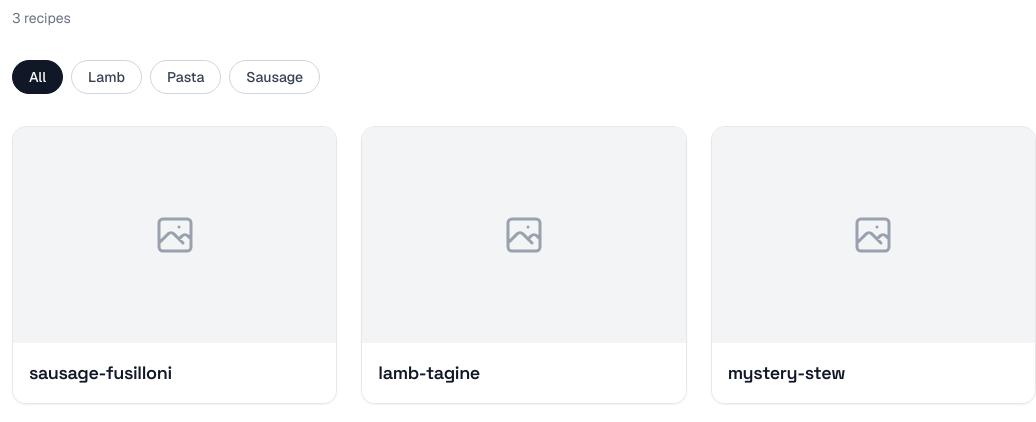
Scenario: CategoryRecipeGrid › restores the full grid via All, or by re-clicking the active pill
The image size is (1036, 422).
Click the button "lamb" at [107, 77], box [71,60,142,94]
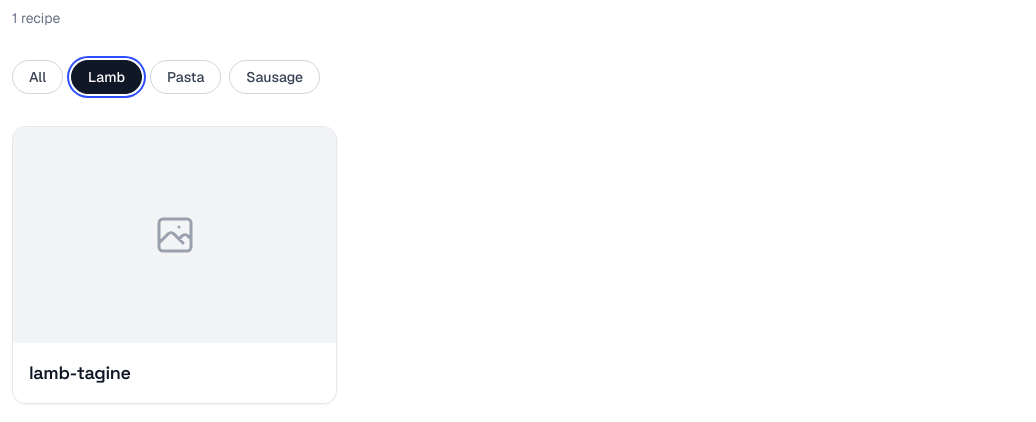
Click the button "All" at [38, 77], box [12,60,63,94]
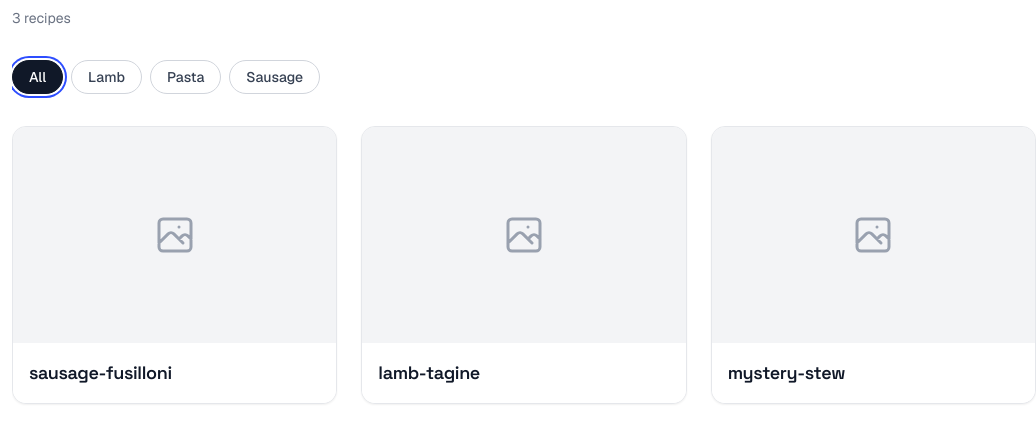
Expected: the text "3 recipes" is shown, [12,9,71,27]
Click the button "lamb" at [107, 77], box [71,60,142,94]
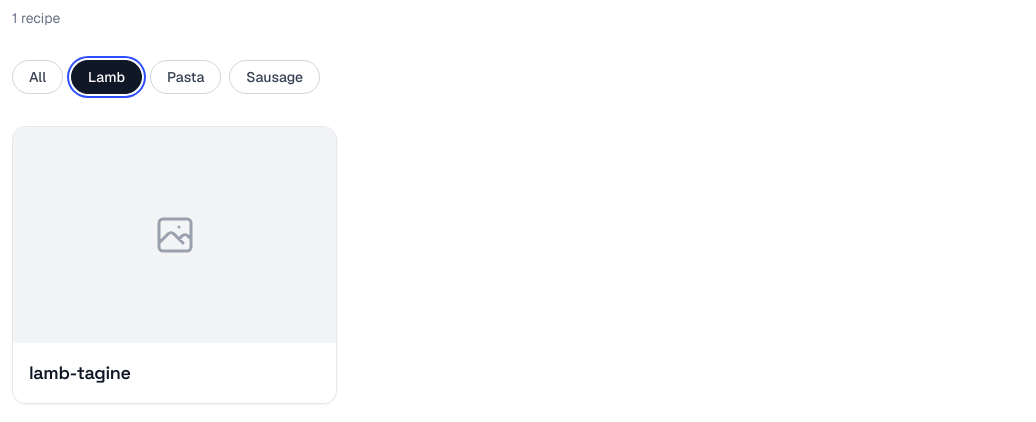
Click the button "lamb" at [107, 77], box [71,60,142,94]
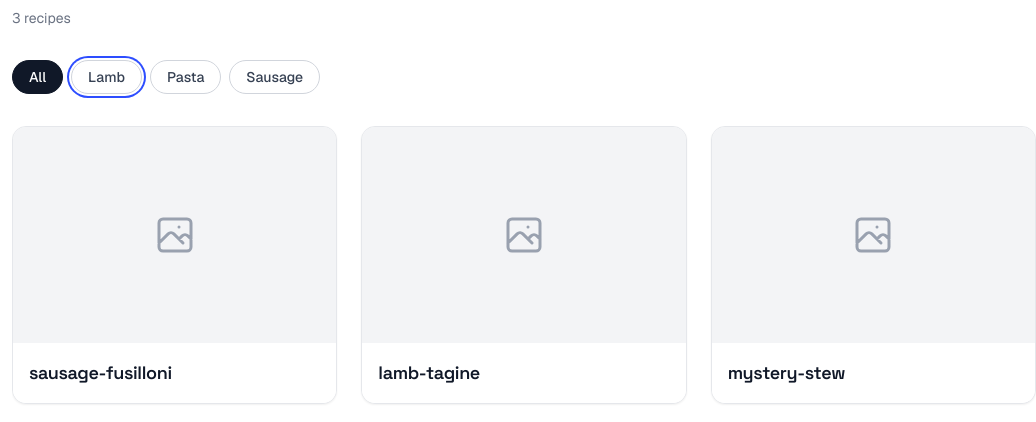
Expected: the text "3 recipes" is shown, [12,9,71,27]
